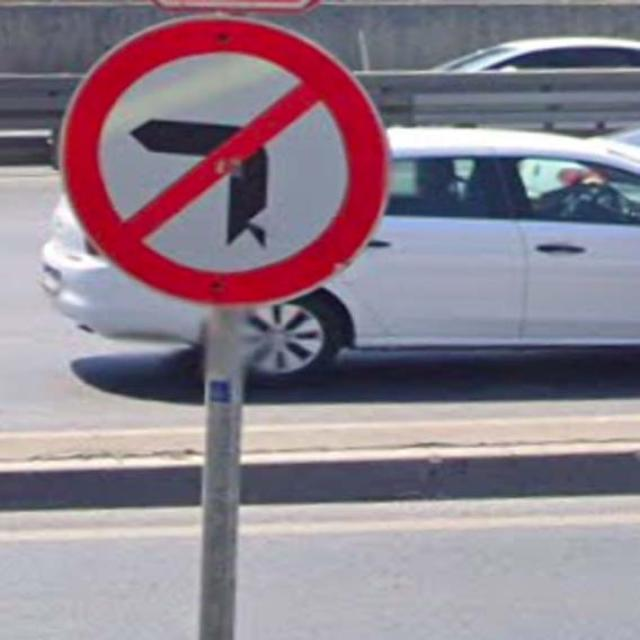soladonulmez: (59, 15, 392, 308)
